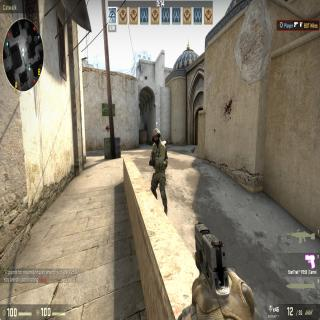CT-Body: (148, 126, 170, 218)
CT-Head: (151, 127, 161, 146)
